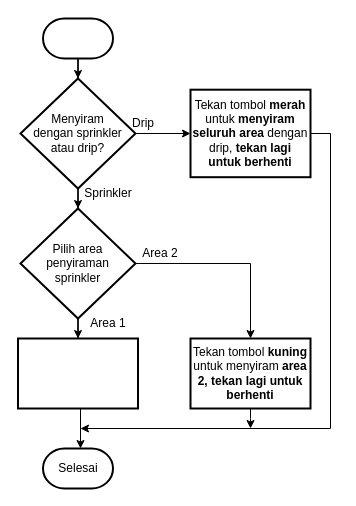
Some shapes in this 356 by 506 pixel diagram are drawn without their labels. Each missing label, with the centre of its shape:
"Mulai" belongs at [78,38].
"Tekan tombol hijau untuk menyiram area 1, tekan lagi untuk berhenti" belongs at [77,373].
